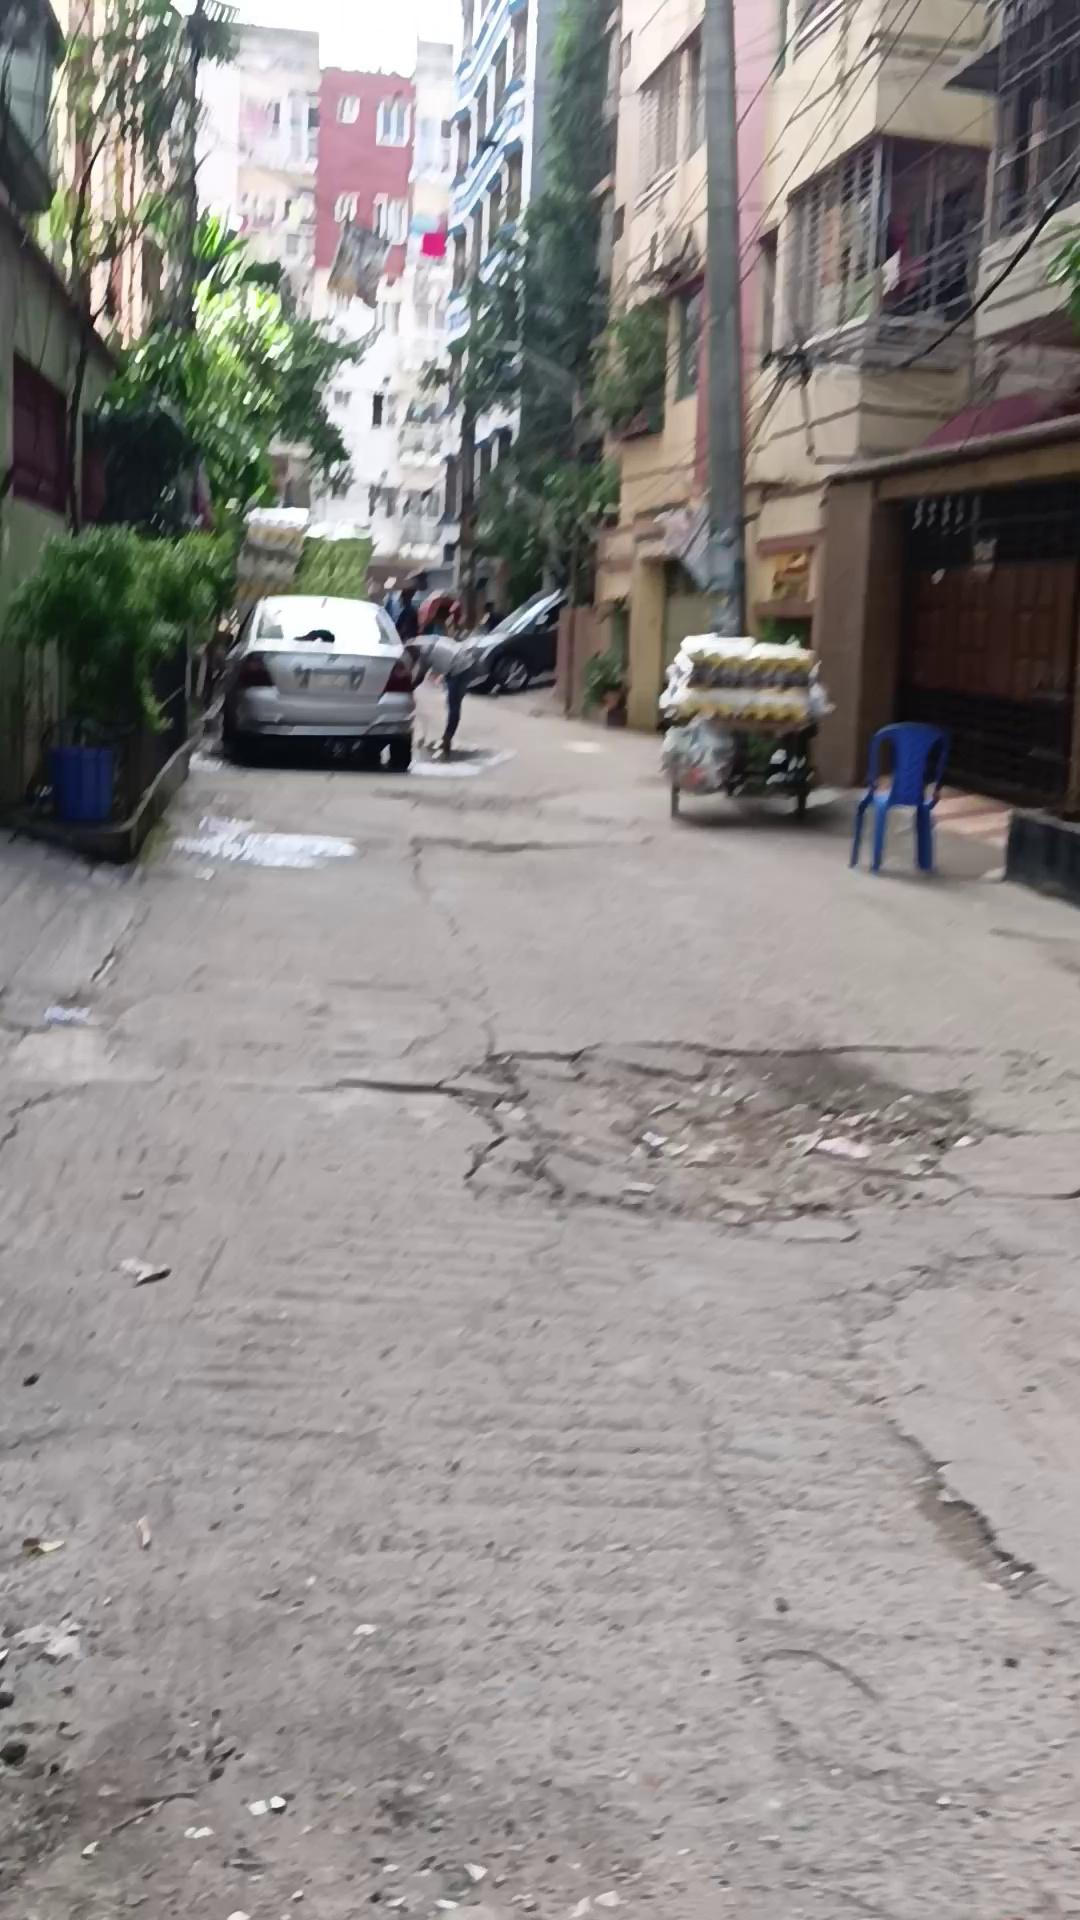Broken-road: (3, 667, 1077, 1916)
Car: (218, 592, 422, 771), (438, 585, 568, 696)
Crosswalk: (9, 694, 224, 862), (1001, 804, 1077, 903)
Garbage: (44, 713, 123, 823)
Muddy road: (429, 638, 477, 761)
Obstacle: (696, 1, 746, 636)
Pothole: (655, 632, 832, 822)
